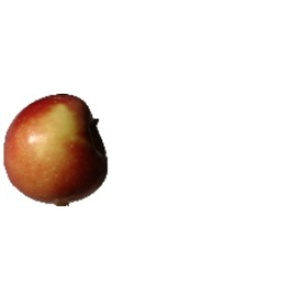maçã braeburn: (2, 90, 109, 206)
